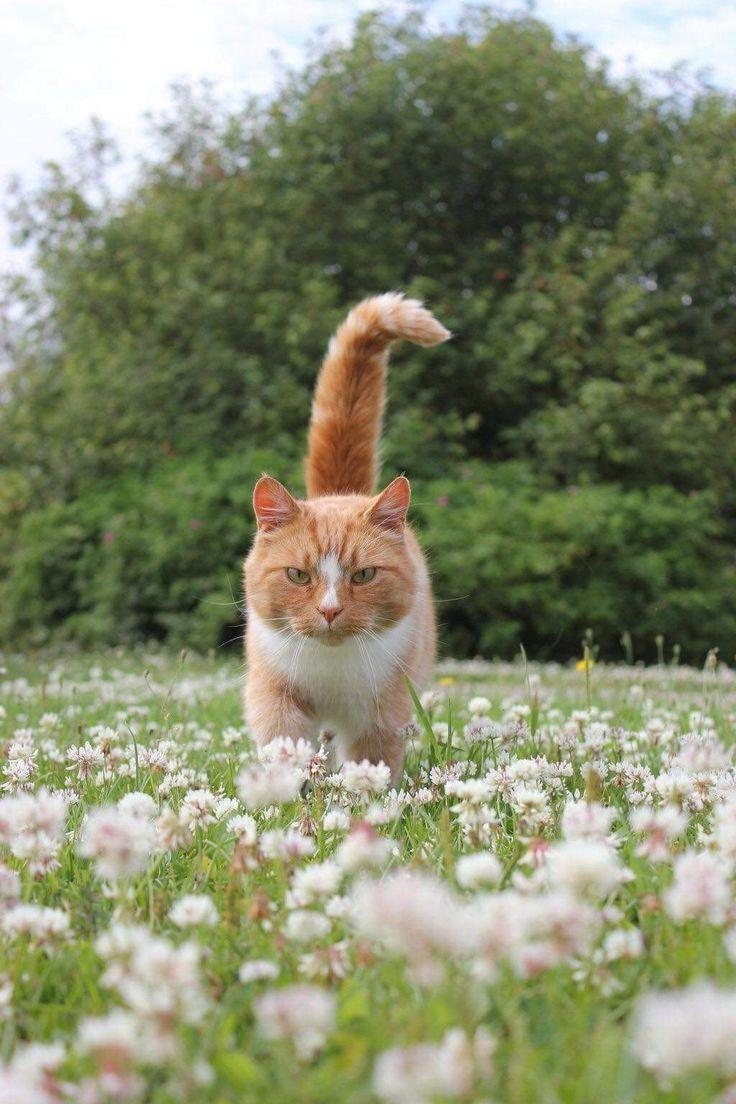kedo: (248, 298, 454, 753)
